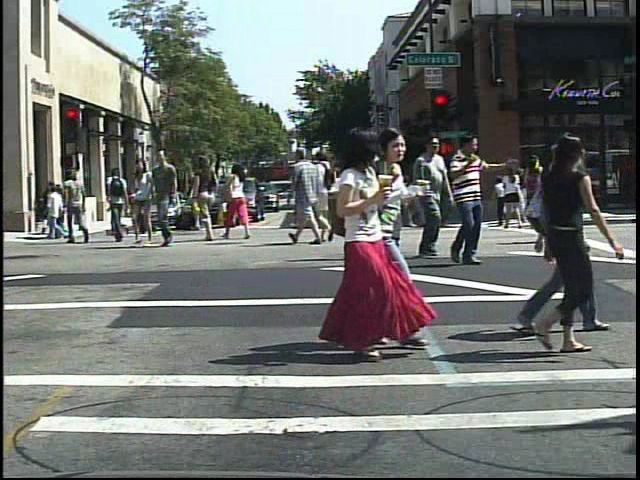person: (514, 129, 632, 367), (310, 125, 407, 368), (524, 132, 613, 338), (444, 128, 503, 270), (351, 134, 399, 265), (406, 136, 453, 261), (543, 134, 588, 249), (372, 128, 411, 252), (149, 147, 188, 252), (127, 159, 162, 252), (291, 142, 322, 244), (192, 151, 223, 249), (313, 148, 342, 248), (224, 154, 254, 244), (61, 166, 93, 245), (104, 164, 132, 243), (500, 161, 526, 222), (333, 161, 353, 230)
